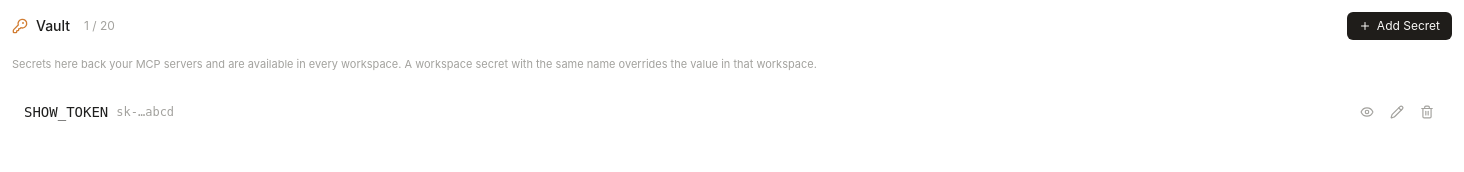
it: SecretsManager via the user vault adapter — reveal › fetches the value on reveal and hides it again on the second click
The width and height of the screenshot is (1464, 172).
Click the button titled "Reveal value": (1367, 112) left=1354, top=98, right=1380, bottom=124
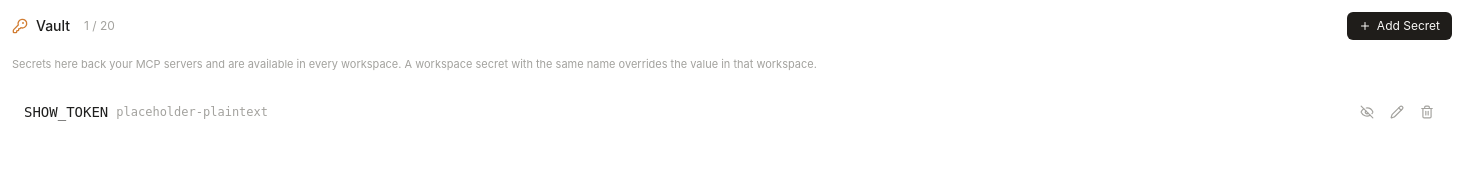
Expected: the text "placeholder-plaintext" is shown, left=116, top=104, right=268, bottom=120
Expected: the text "sk-…abcd" is gone
Click the button titled "Hide value": (1367, 112) left=1354, top=98, right=1380, bottom=124
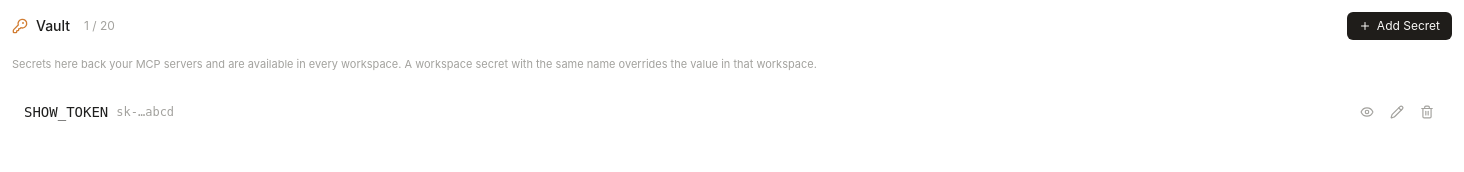
Expected: the text "sk-…abcd" is shown, left=116, top=104, right=174, bottom=120
